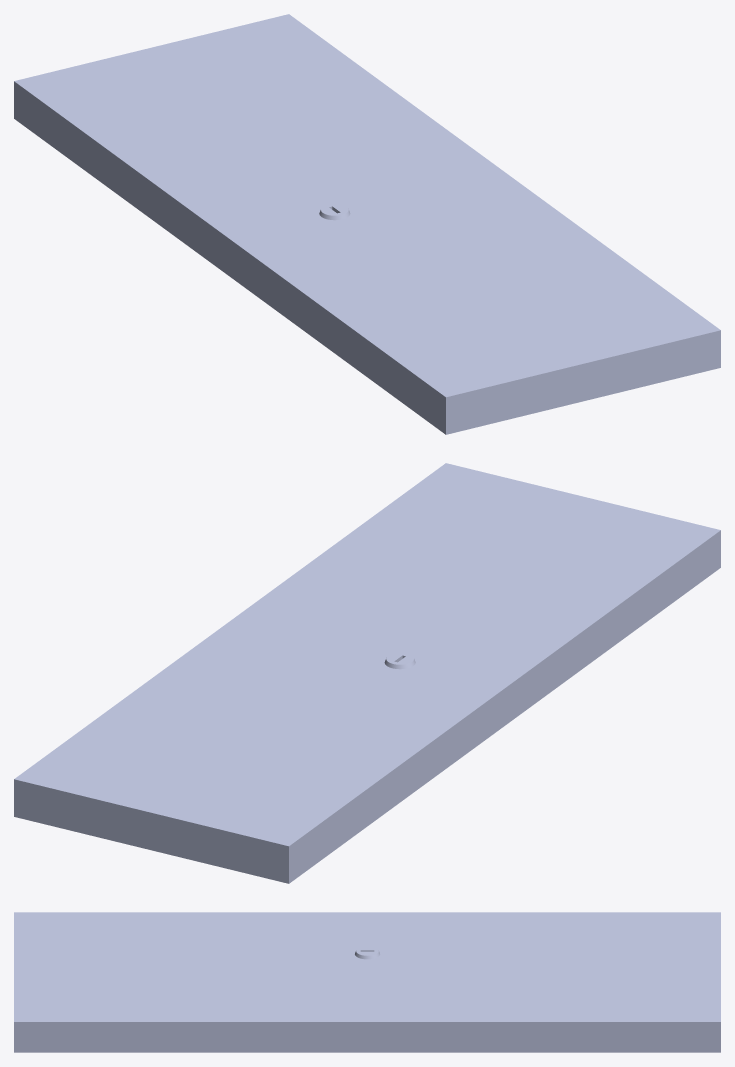
File: Door Wallmount Corner.fbx
3 views of the same model, one above another, from view 1: azimuth 30°, elevation 25°; view 2: azimuth 150°, elevation 25°; view 3: azimuth 270°, elevation 25° (orthographic). The views are drawn at different scales.
Visible parts, largest first — view 1: Body_1; view 2: Body_1; view 3: Body_1.
Boxes of the visible parts, x1,y1,x2,y2 form: Body_1: [14, 14, 720, 434]; Body_1: [14, 463, 720, 883]; Body_1: [14, 912, 720, 1052].
Bounding box in the file's own units: 0.1946 × 0.5294 × 0.0279.
